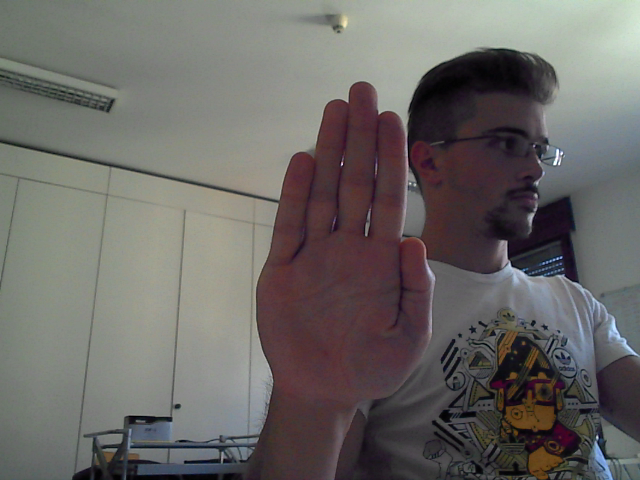hold: (248, 77, 441, 403)
